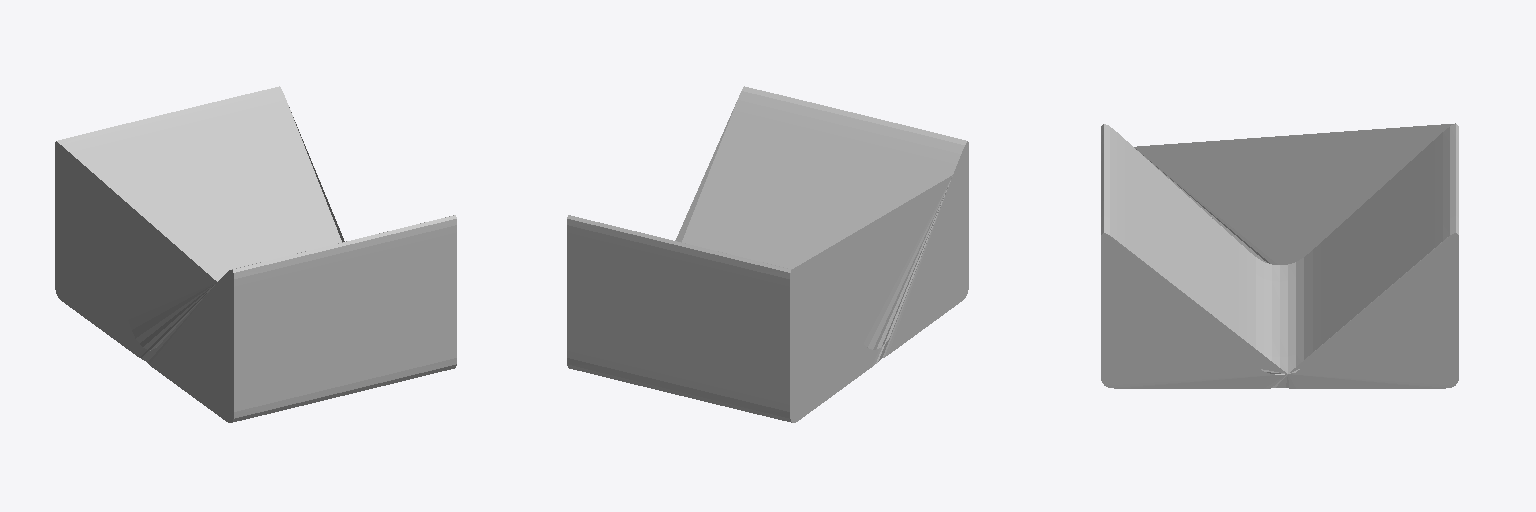
Rendered from slopes2.obj.
3 renders of one model, left to right at view 1: azimuth 30°, elevation 25°; view 2: azimuth 150°, elevation 25°; view 3: azimuth 270°, elevation 25°, orthographic.
Parts seen in each view (by area): view 1: 立方体.001_立方体.007; view 2: 立方体.001_立方体.007; view 3: 立方体.001_立方体.007.
Part boxes in pixels (x1,y1,x2,y2): 立方体.001_立方体.007: (55,86,456,422); 立方体.001_立方体.007: (567,86,968,422); 立方体.001_立方体.007: (1101,123,1458,388).
Size of the model in its own units: 2.92 by 1.93 by 4.